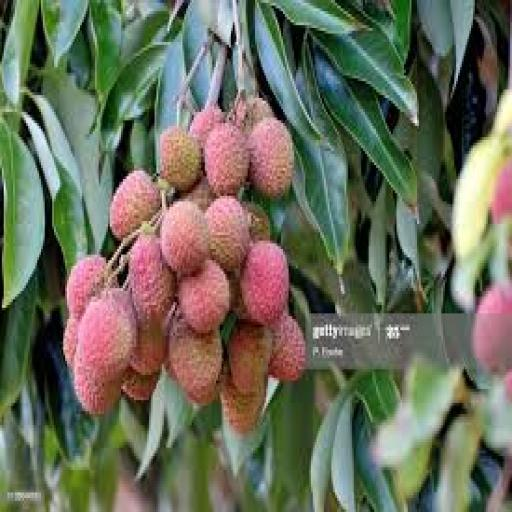lychee: (75, 289, 137, 380), (170, 319, 221, 405), (129, 236, 176, 321), (241, 241, 288, 324), (248, 118, 294, 198), (179, 261, 230, 332), (110, 171, 160, 240), (161, 202, 208, 274), (473, 283, 511, 372), (205, 196, 249, 271), (205, 124, 249, 195), (228, 322, 271, 394), (220, 373, 266, 433), (161, 126, 201, 193), (75, 359, 122, 414), (66, 255, 106, 318), (269, 314, 305, 380), (131, 322, 167, 374), (190, 104, 225, 148), (235, 98, 273, 134), (122, 367, 160, 402), (181, 177, 215, 212), (492, 163, 511, 223), (244, 202, 271, 240), (64, 317, 80, 369), (505, 370, 511, 402)
